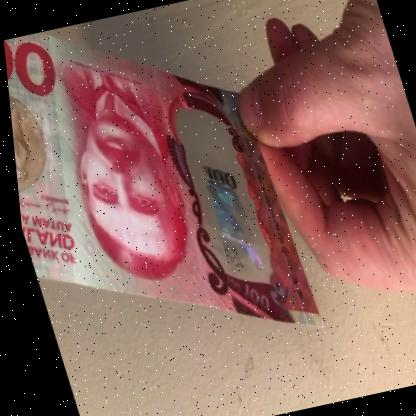100F: (179, 122, 265, 278)
